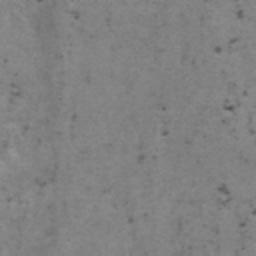Oxide scale of temperature system: (176, 152, 250, 251), (181, 5, 245, 113), (11, 162, 59, 236), (0, 90, 22, 160), (33, 10, 81, 36), (83, 71, 91, 84), (137, 153, 146, 164), (156, 103, 167, 111)
